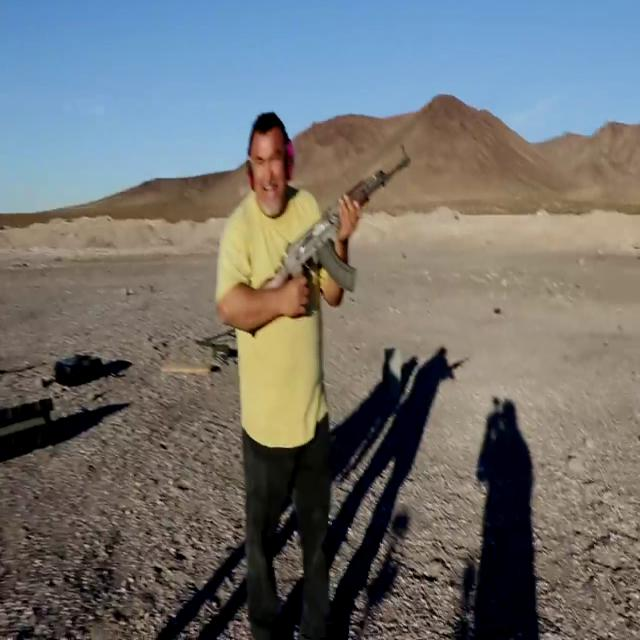long weapon: (236, 144, 424, 321)
